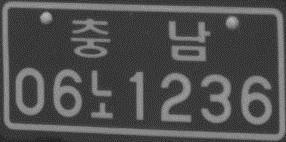0: (14, 66, 45, 116)
1: (123, 70, 152, 120)
2: (159, 71, 192, 122)
3: (199, 73, 231, 124)
6: (239, 73, 272, 125), (52, 67, 82, 117)
노: (88, 69, 113, 119)
충남_D: (71, 17, 210, 61)
